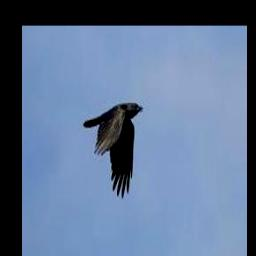Crow: (84, 103, 143, 198)
